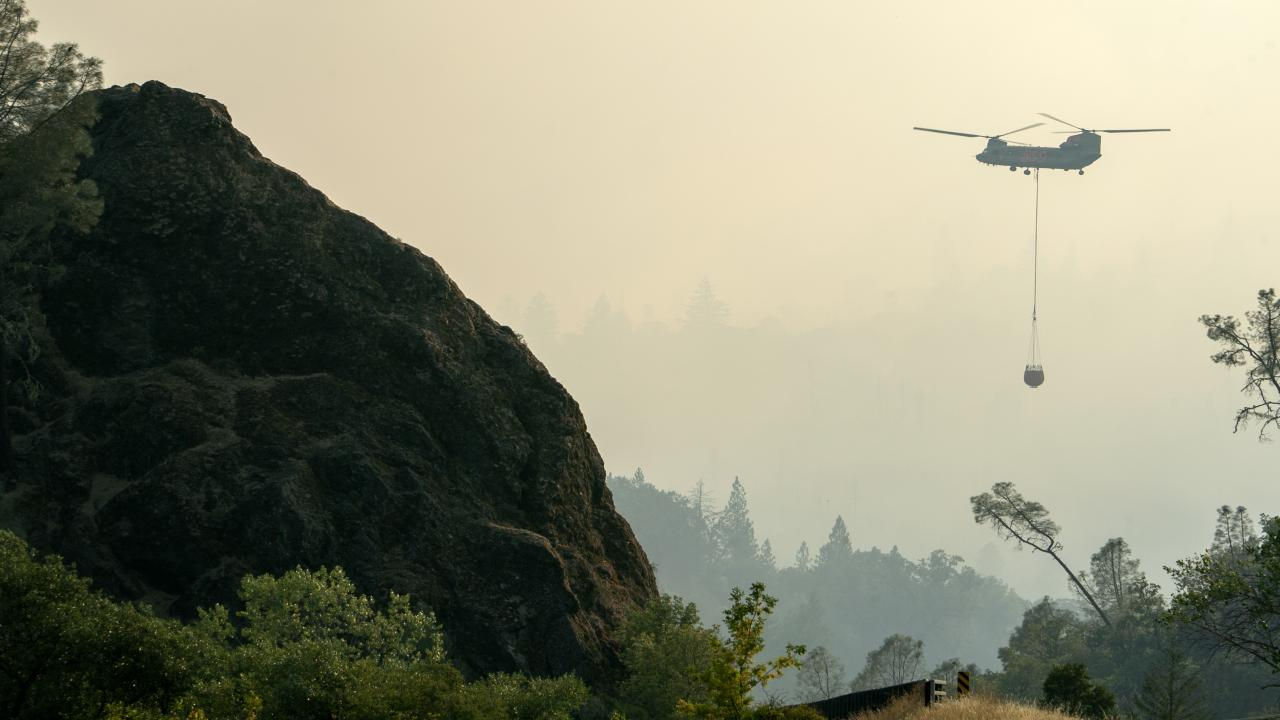Helicopter: (901, 101, 1187, 185)
